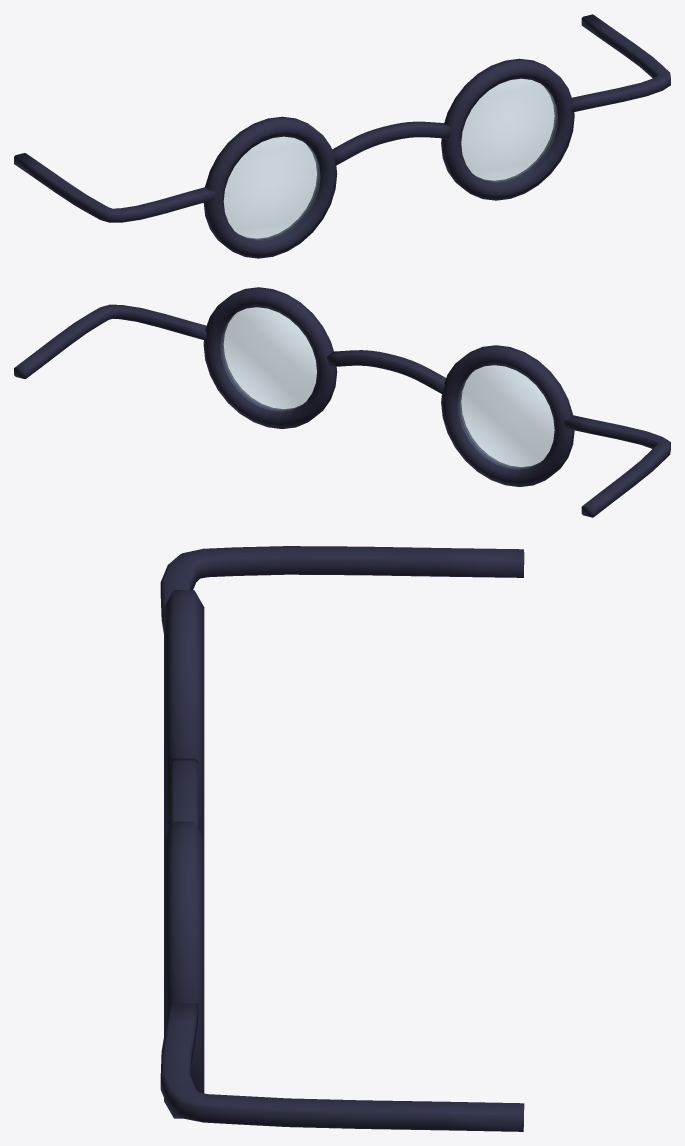
File: round_glasses-tiger.glb
3 views of the same model, one above another, from view 1: azimuth 30°, elevation 25°; view 2: azimuth 150°, elevation 25°; view 3: azimuth 270°, elevation 25° (orthographic). The views are drawn at different scales.
Parts seen in each view (by area): view 1: lens, lens.001, rim, rim.001, temple.001, temple, bridge; view 2: lens.001, lens, rim.001, rim, temple, temple.001, bridge; view 3: temple, temple.001, rim, rim.001, bridge.
Part boxes in pixels (bbox=[...]): lens: bbox=[461, 78, 557, 182]; lens.001: bbox=[223, 136, 320, 240]; rim: bbox=[441, 58, 574, 200]; rim.001: bbox=[203, 116, 337, 258]; temple.001: bbox=[14, 153, 214, 222]; temple: bbox=[571, 14, 670, 112]; bridge: bbox=[332, 121, 451, 165]; lens.001: bbox=[458, 365, 554, 469]; lens: bbox=[220, 307, 316, 411]; rim.001: bbox=[441, 345, 574, 486]; rim: bbox=[203, 287, 337, 428]; temple: bbox=[14, 304, 206, 378]; temple.001: bbox=[564, 415, 670, 517]; bridge: bbox=[327, 350, 445, 394]; temple: bbox=[160, 1002, 524, 1131]; temple.001: bbox=[160, 546, 524, 633]; rim: bbox=[164, 821, 204, 1118]; rim.001: bbox=[164, 590, 204, 838]; bridge: bbox=[170, 758, 197, 827].
Size of the model in its own units: 1.33 by 0.2946 by 0.3605.
